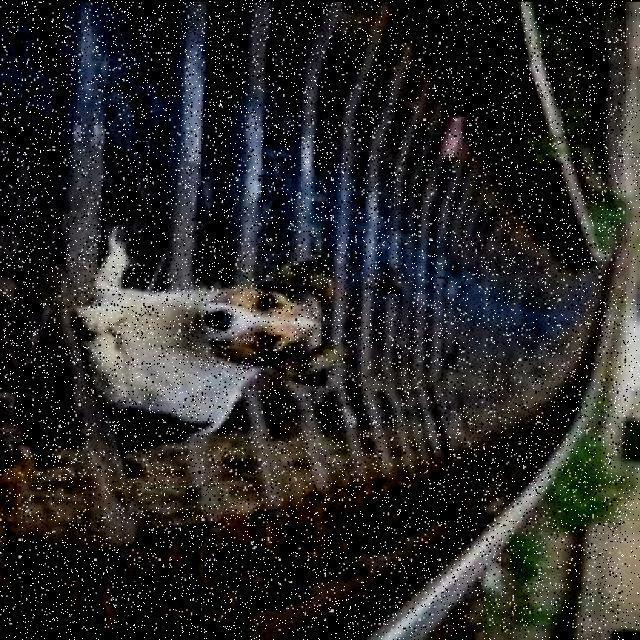danger: (77, 246, 338, 457)
rail: (0, 0, 626, 631)
